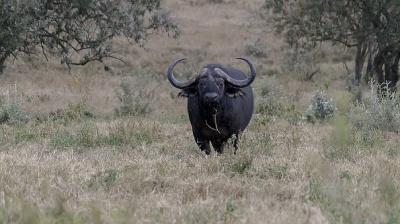buffalo: (166, 58, 257, 156)
